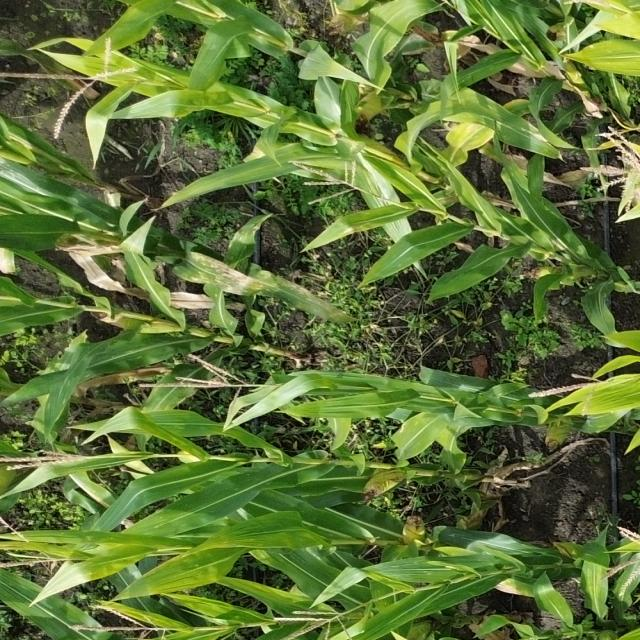gray-leaf-spot: (169, 249, 321, 321), (23, 342, 131, 421), (468, 90, 558, 154)
southern-leaf-blight: (43, 520, 219, 587), (142, 468, 270, 534)
